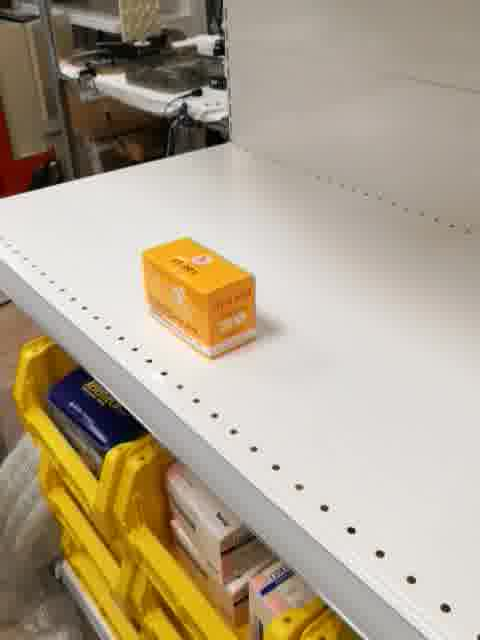jasminetea: (141, 233, 260, 364)
